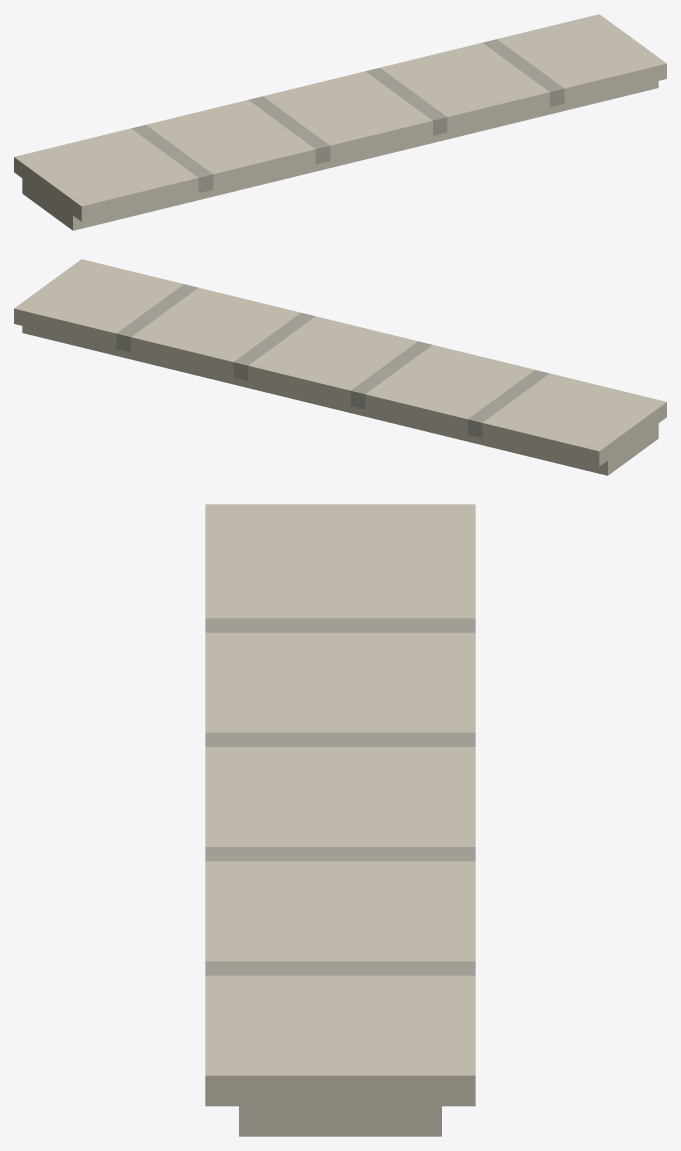
3 renders of one model, top to bottom at view 1: azimuth 30°, elevation 25°; view 2: azimuth 150°, elevation 25°; view 3: azimuth 270°, elevation 25°, orthographic. The views are drawn at different scales.
Parts seen in each view (by area): view 1: 挡墙压顶与泄水缝组件; view 2: 挡墙压顶与泄水缝组件; view 3: 挡墙压顶与泄水缝组件.
Boxes of the visible parts, box(x1,y1,x2,y2) form: 挡墙压顶与泄水缝组件: box(14, 14, 666, 230); 挡墙压顶与泄水缝组件: box(14, 259, 666, 475); 挡墙压顶与泄水缝组件: box(205, 504, 475, 1136).
Bounding box in the file's own units: 8 × 0.4 × 1.6.
2 materials, 2 textured.
